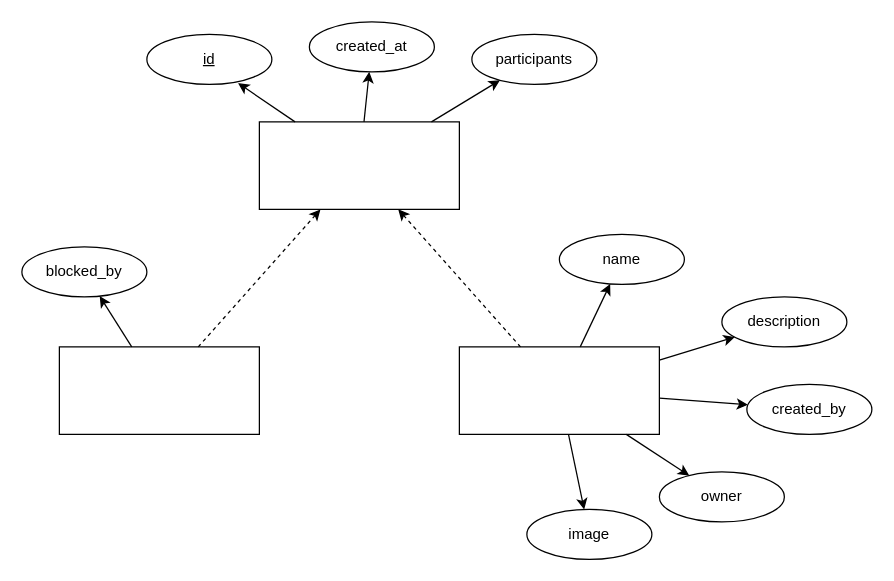
This 894x581 diagram has some shape labels left out. The shapes that lost their labels are listed below. From the top down, each one's centre as x and y in pixels, then its label:
the point at 358,165: CHAT
the point at 158,390: PRIVATE_CHAT
the point at 558,390: GROUP_CHAT
